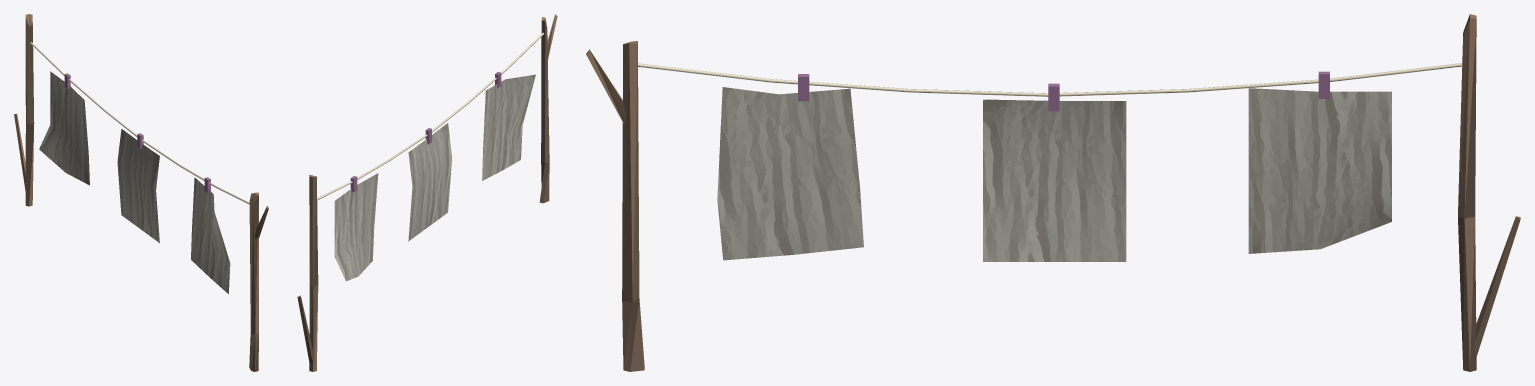
The model's file is Isla_Bosque_Tenderete.FBX.
The picture shows the model from 3 angles, left to right: view 1: azimuth 30°, elevation 25°; view 2: azimuth 150°, elevation 25°; view 3: azimuth 270°, elevation 25°; orthographic projection. The views are drawn at different scales.
Visible parts, largest first — view 1: Isla_Bosque_Tenderete_Hoja_02; view 2: Isla_Bosque_Tenderete_Hoja_02; view 3: Isla_Bosque_Tenderete_Hoja_02.
Boxes of the visible parts, bbox=[...] form: Isla_Bosque_Tenderete_Hoja_02: bbox=[14, 14, 268, 371]; Isla_Bosque_Tenderete_Hoja_02: bbox=[297, 14, 557, 371]; Isla_Bosque_Tenderete_Hoja_02: bbox=[586, 14, 1520, 371].
Bounding box in the file's own units: 10.63 × 100 × 241.
Materials: 1 (1 with a texture image).
